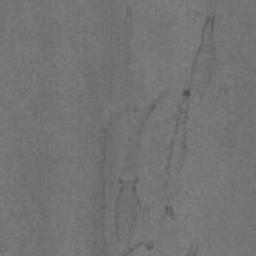Water spot: (82, 0, 220, 256), (183, 242, 200, 256)
